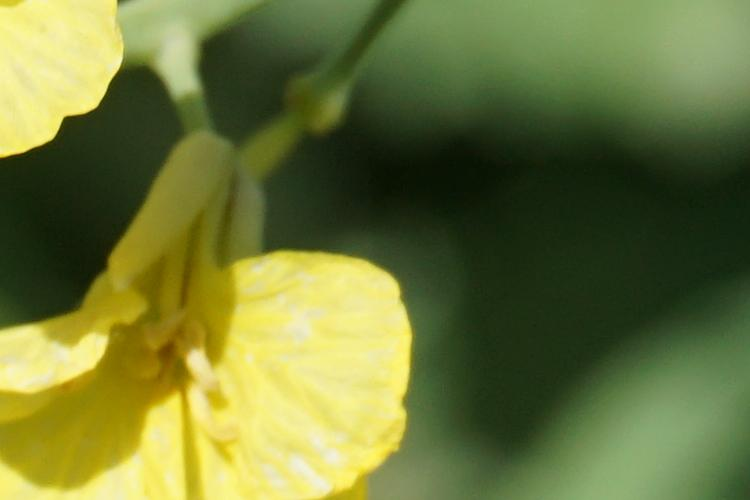yellow: (7, 129, 411, 500)
